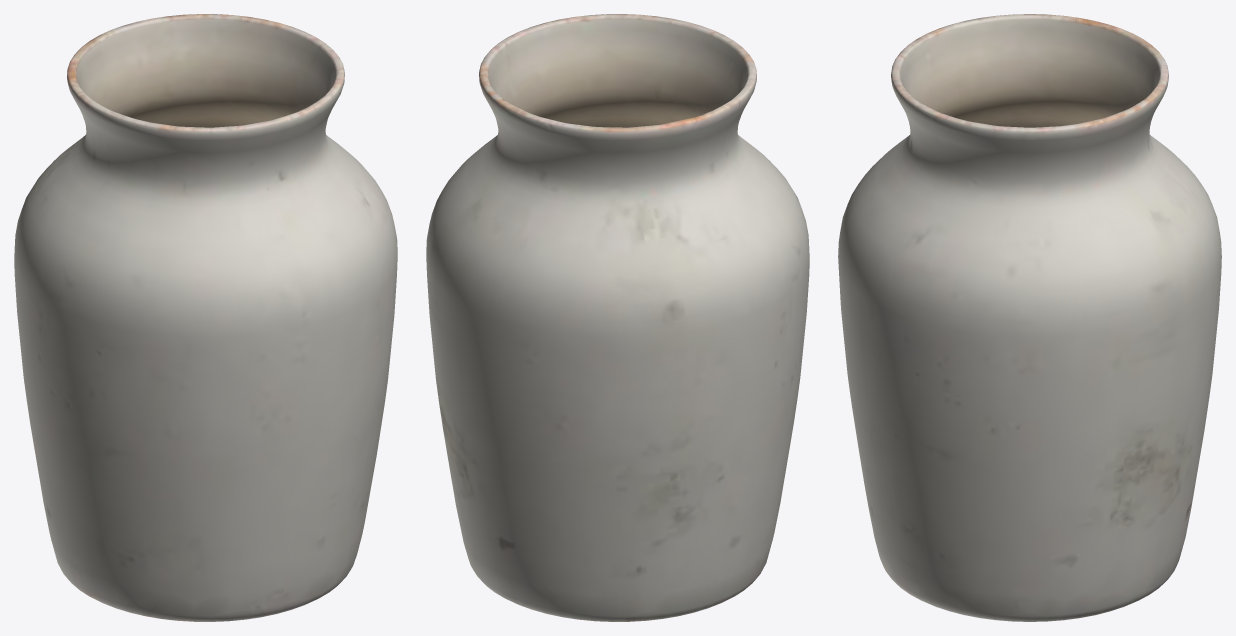
File: ceramic_vase_02.4b928d46.glb
3 views of the same model, side by side, from view 1: azimuth 30°, elevation 25°; view 2: azimuth 150°, elevation 25°; view 3: azimuth 270°, elevation 25° (orthographic).
Visible parts, largest first — view 1: ceramic_vase_02; view 2: ceramic_vase_02; view 3: ceramic_vase_02.
Boxes of the visible parts, bbox=[...] form: ceramic_vase_02: bbox=[14, 14, 397, 621]; ceramic_vase_02: bbox=[426, 14, 809, 621]; ceramic_vase_02: bbox=[838, 14, 1221, 621].
Bounding box in the file's own units: 0.7063 × 1 × 0.7063.
Materials: 1 (1 with a texture image).
